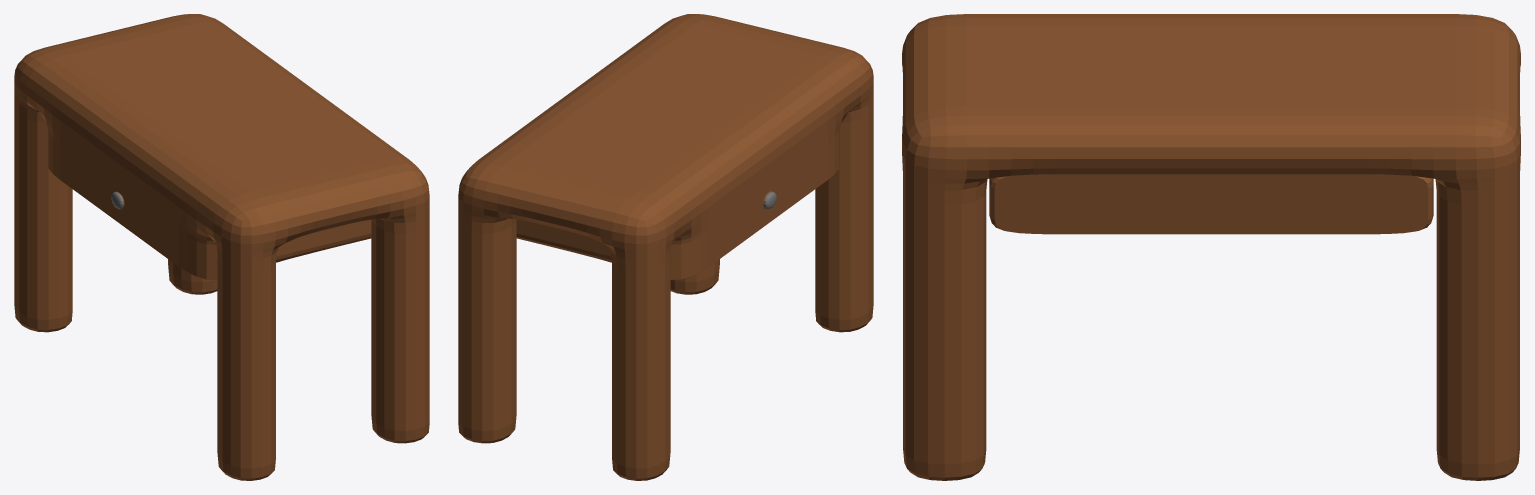
The model's file is Desk.fbx.
The picture shows the model from 3 angles, left to right: view 1: azimuth 30°, elevation 25°; view 2: azimuth 150°, elevation 25°; view 3: azimuth 270°, elevation 25°; orthographic projection. The views are drawn at different scales.
Parts seen in each view (by area): view 1: Cube; view 2: Cube; view 3: Cube.
Boxes of the visible parts, <box> form: Cube: <box>14,14,429,480</box>; Cube: <box>458,14,873,480</box>; Cube: <box>902,14,1520,480</box>.
Size of the model in its own units: 2.04 by 2.5 by 3.98.
